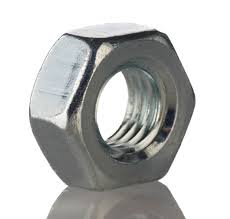Thread: (71, 36, 185, 166)
